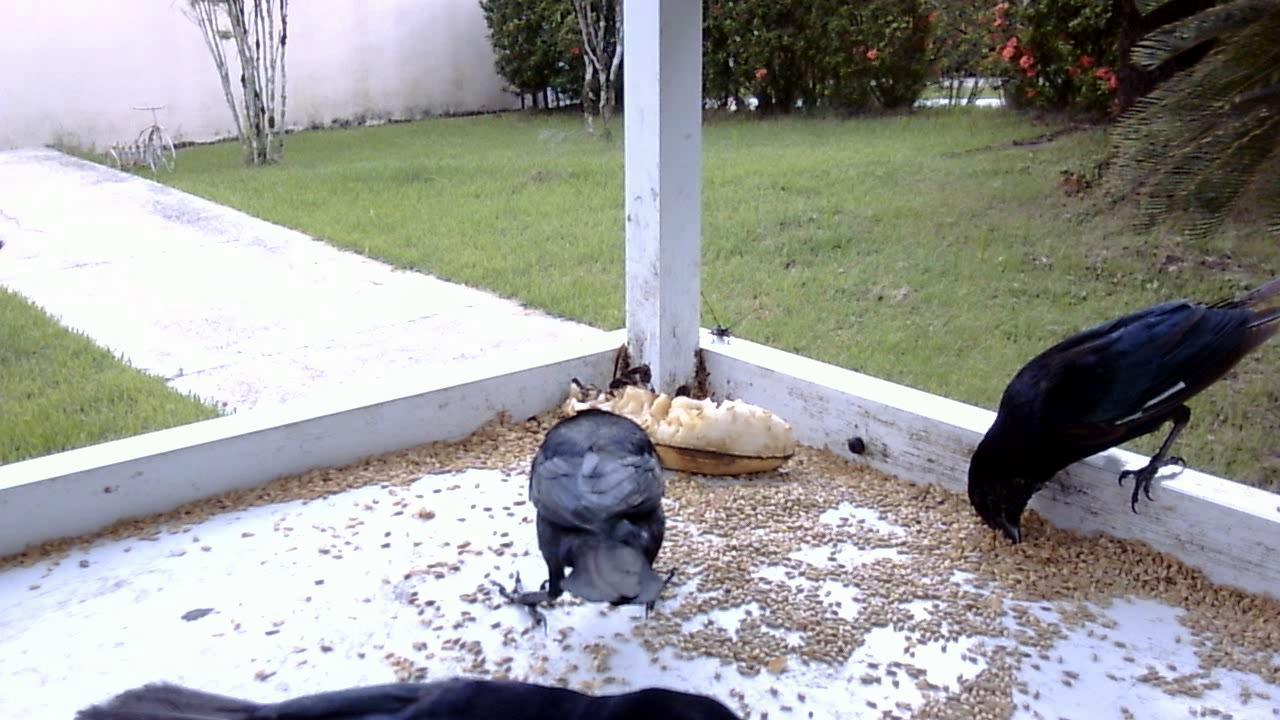chupim: (955, 274, 1276, 551), (69, 608, 761, 720), (498, 403, 680, 627)
